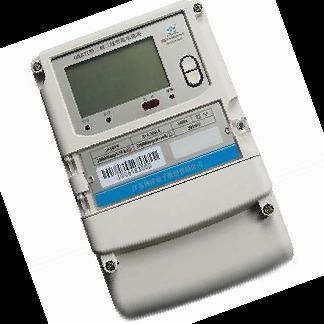digital: (37, 1, 272, 252)
